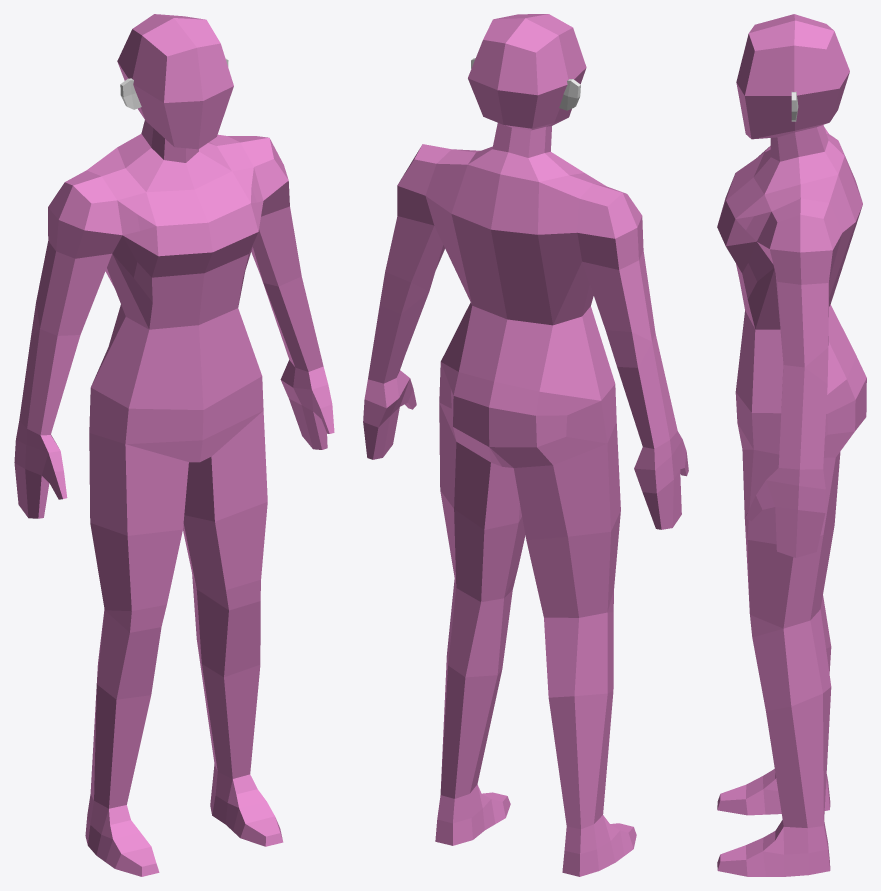
Rendered from Fem Adult Base Body.fbx.
3 renders of one model, left to right at view 1: azimuth 30°, elevation 25°; view 2: azimuth 150°, elevation 25°; view 3: azimuth 270°, elevation 25°, orthographic.
Parts seen in each view (by area): view 1: NPC Female Base Body; view 2: NPC Female Base Body; view 3: NPC Female Base Body.
Part boxes in pixels (x1,y1,x2,y2): NPC Female Base Body: (14, 14, 334, 876); NPC Female Base Body: (363, 14, 688, 876); NPC Female Base Body: (717, 14, 866, 876).
Size of the model in its own units: 68.96 by 182 by 30.27.
